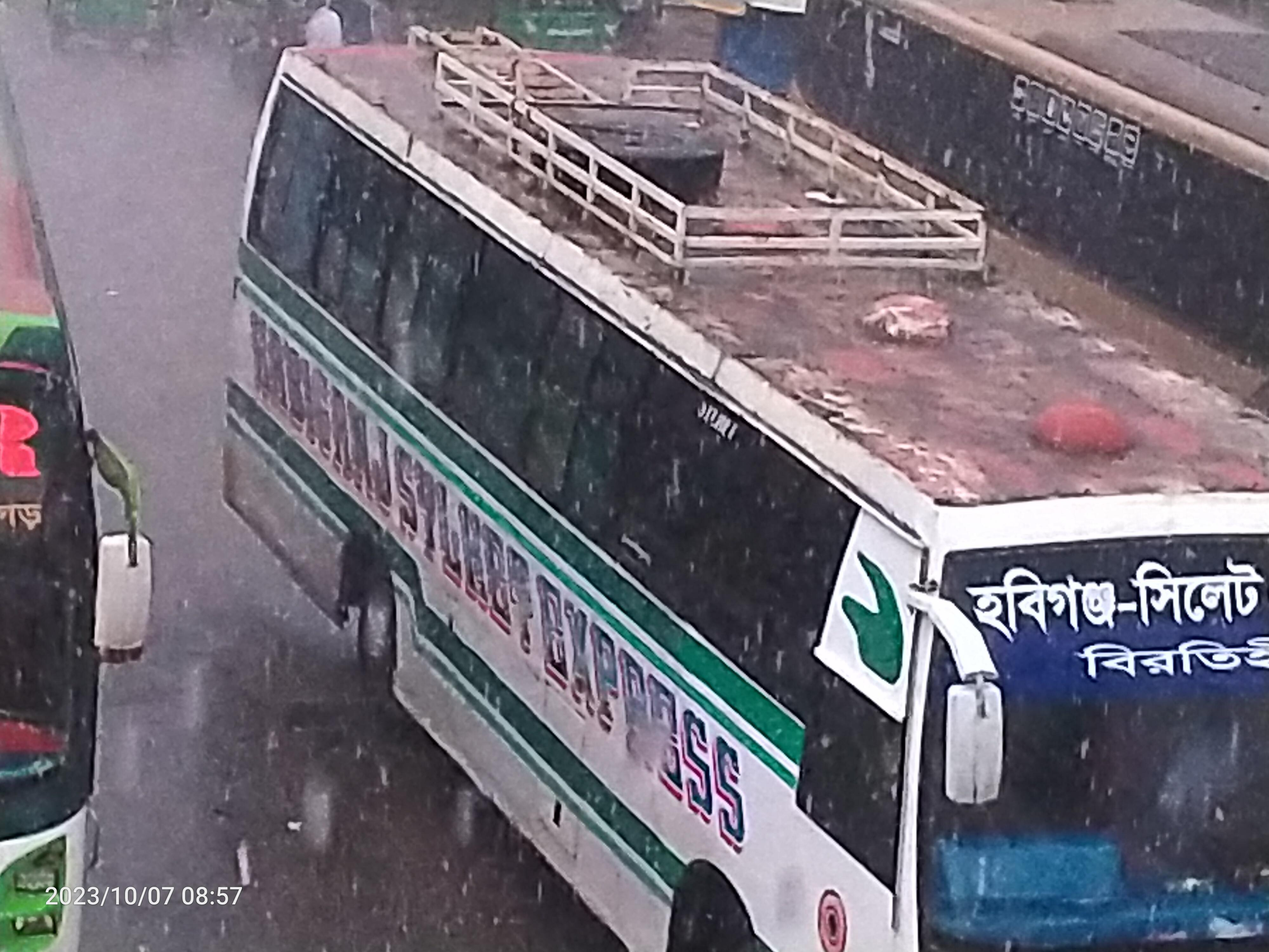Bus: (189, 18, 1269, 952), (793, 0, 1266, 362), (0, 39, 178, 952)
